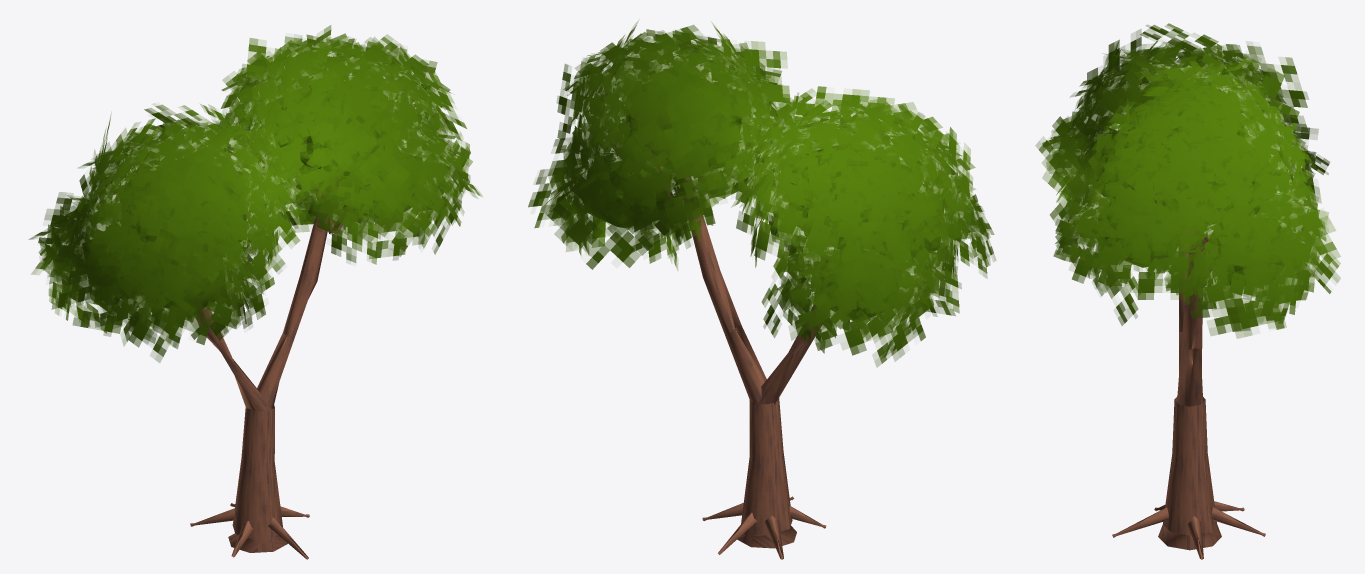
The model's file is oak_forked.glb.
The picture shows the model from 3 angles, left to right: view 1: azimuth 30°, elevation 25°; view 2: azimuth 150°, elevation 25°; view 3: azimuth 270°, elevation 25°; orthographic projection. The views are drawn at different scales.
Parts seen in each view (by area): view 1: oak_forked_Leaf_Mid, oak_forked_Bark_Brown, oak_forked_Core_Mid; view 2: oak_forked_Leaf_Mid, oak_forked_Bark_Brown, oak_forked_Core_Mid; view 3: oak_forked_Leaf_Mid, oak_forked_Bark_Brown, oak_forked_Core_Mid.
Boxes of the visible parts, left/top/right/bottom form: oak_forked_Leaf_Mid: left=28, top=25, right=482, bottom=362; oak_forked_Bark_Brown: left=190, top=181, right=342, bottom=559; oak_forked_Core_Mid: left=82, top=81, right=422, bottom=309; oak_forked_Leaf_Mid: left=528, top=20, right=996, bottom=367; oak_forked_Bark_Brown: left=612, top=147, right=842, bottom=559; oak_forked_Core_Mid: left=584, top=75, right=943, bottom=321; oak_forked_Leaf_Mid: left=1035, top=23, right=1340, bottom=338; oak_forked_Bark_Brown: left=1112, top=174, right=1272, bottom=559; oak_forked_Core_Mid: left=1085, top=85, right=1284, bottom=284.
Size of the model in its own units: 8.83 by 10.07 by 5.77.
Materials: 3 (2 with a texture image).
